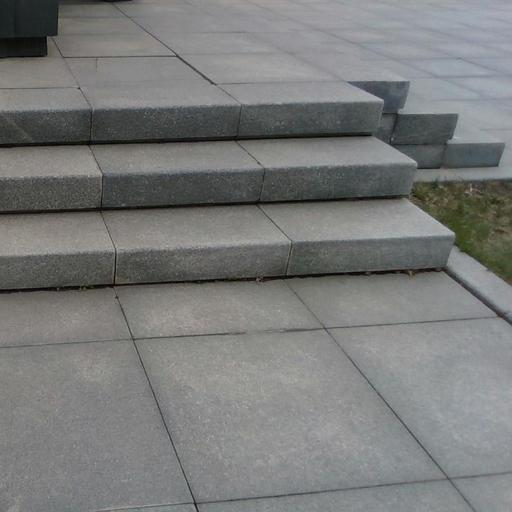stairs: (0, 81, 453, 289)
